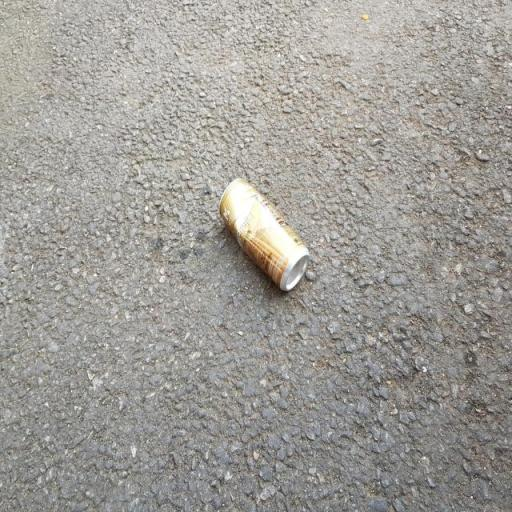metal: (192, 157, 331, 317)
